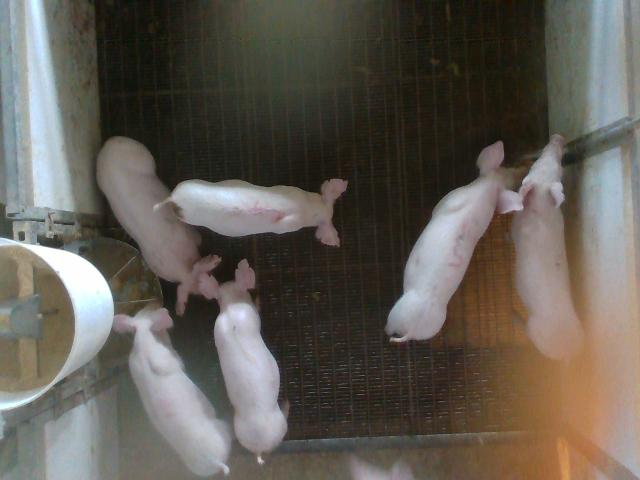pig-3: (385, 141, 525, 342)
pig-4: (114, 302, 231, 476)
pig-5: (154, 179, 348, 246)
